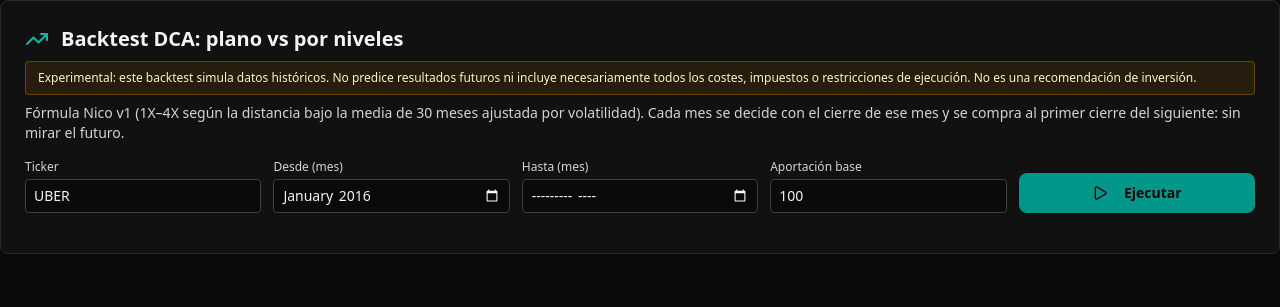
Test: DcaBacktestPanel aportación base › entrada inválida: aviso visible y NUNCA reinterpreta a 100 en silencio
Replace the text in the field labelled "Aportación base" with "abc" at (888, 196), box [770,179,1007,213]
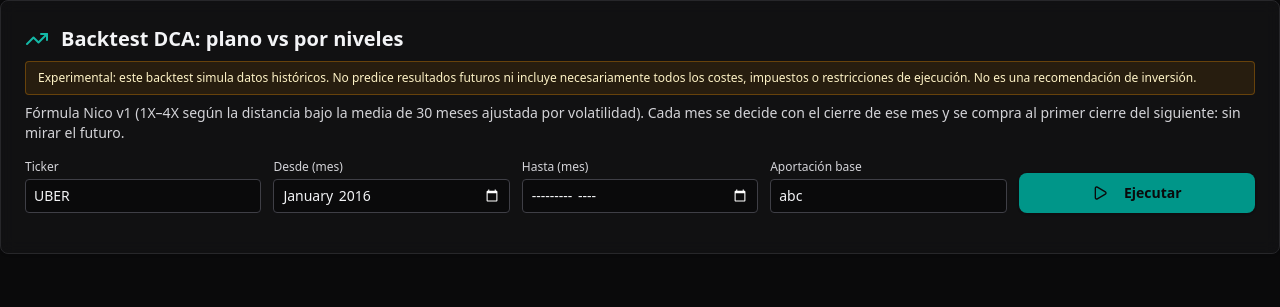
Submit the form "Ticker Desde (mes) Hasta (mes) Aportación base Ejecutar", box [25,159,1255,213]
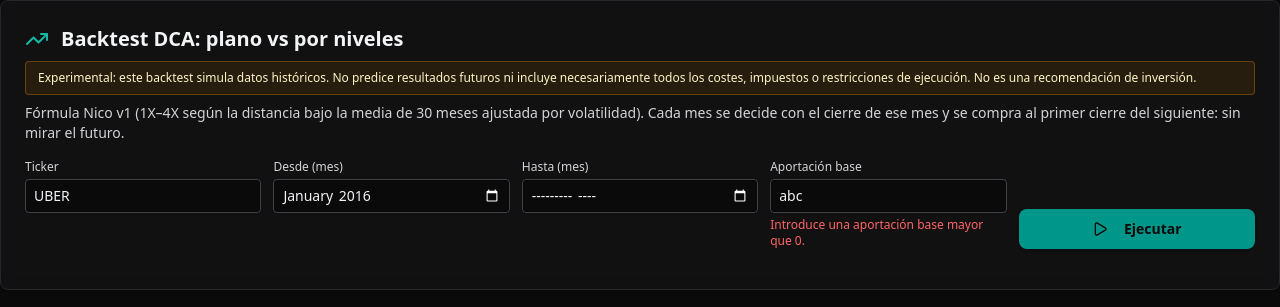
Expected: the message reads "Introduce una aportación base mayor que 0.", [770,216,983,249]
